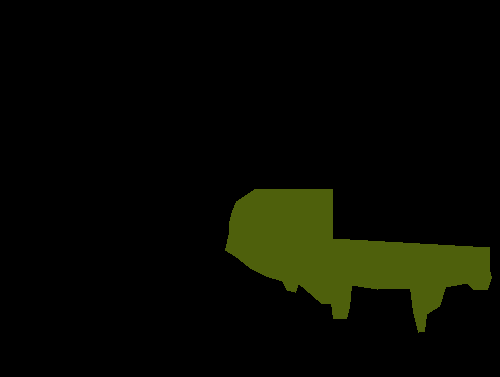Train: (225, 189, 492, 333)
